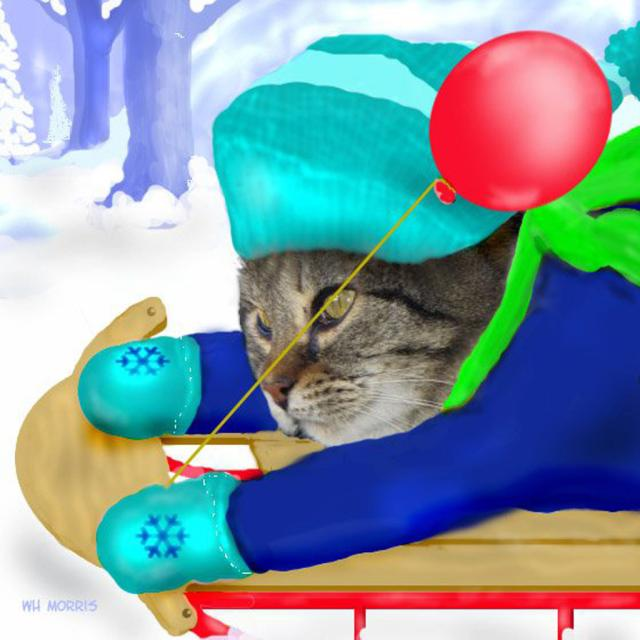Cat: (81, 206, 639, 613)
